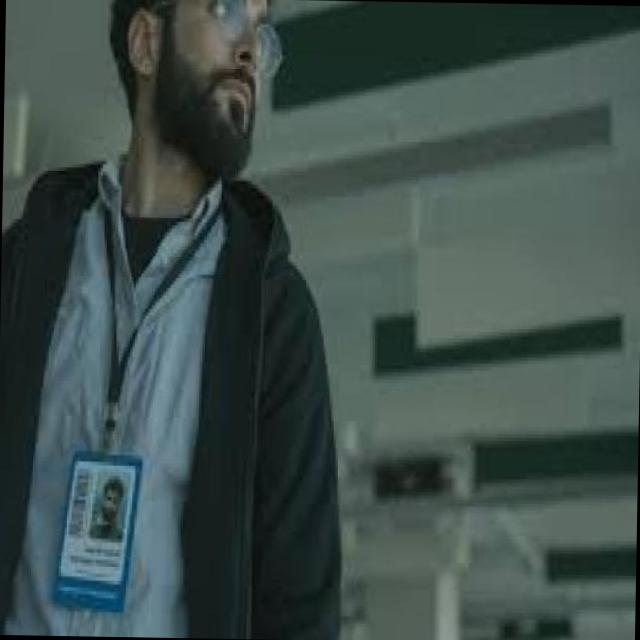id_card: (46, 175, 223, 612)
